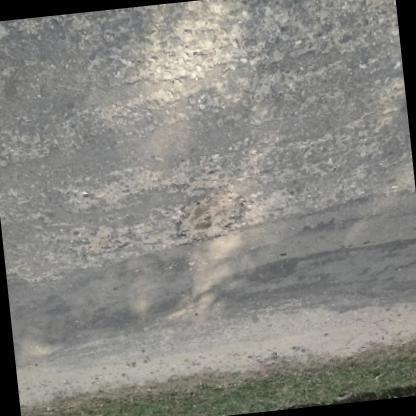pothole: (41, 218, 152, 272), (173, 186, 252, 244)
